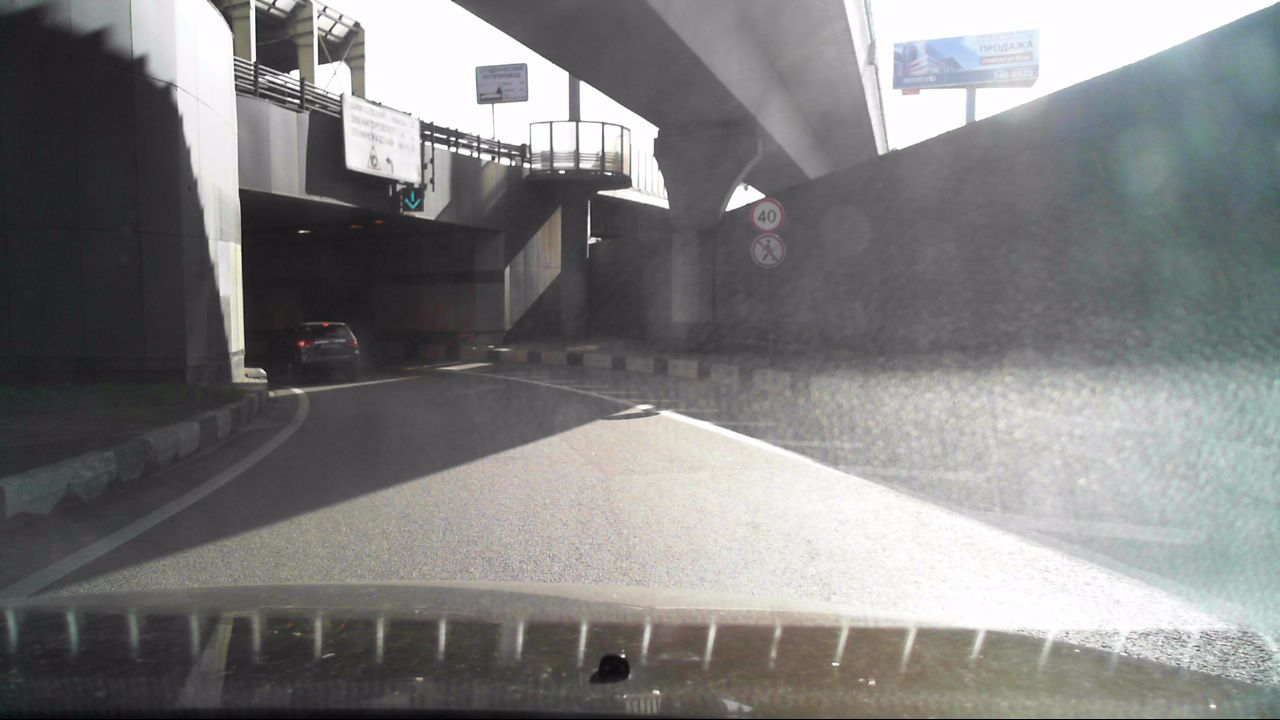speed_warning_40: (750, 196, 784, 233)
